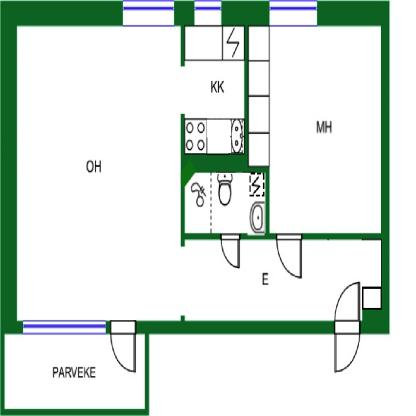door: (332, 279, 361, 377), (110, 316, 138, 375), (275, 231, 303, 280), (220, 235, 242, 270)
window: (124, 2, 176, 28), (269, 1, 318, 27), (21, 320, 107, 333), (193, 1, 222, 28)
zone: (17, 24, 380, 318), (247, 22, 381, 234), (4, 332, 145, 409), (185, 25, 244, 152), (186, 164, 266, 232)
